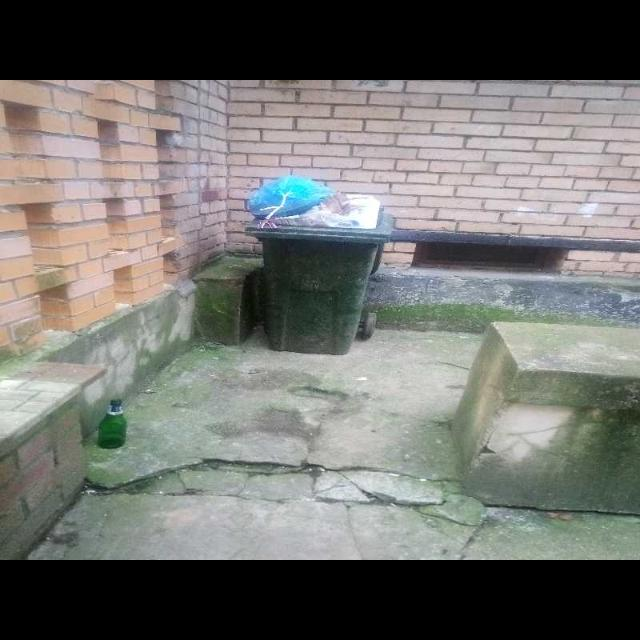Trash_Can_Full: (246, 175, 393, 354)
